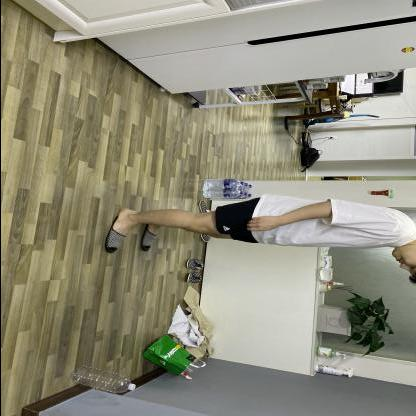no_safety-shoe: (86, 207, 138, 259), (133, 212, 169, 260)
